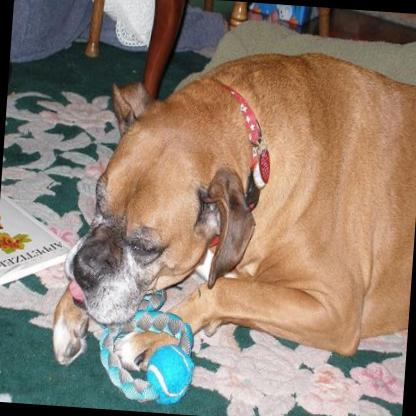boxer: (48, 36, 416, 400)
